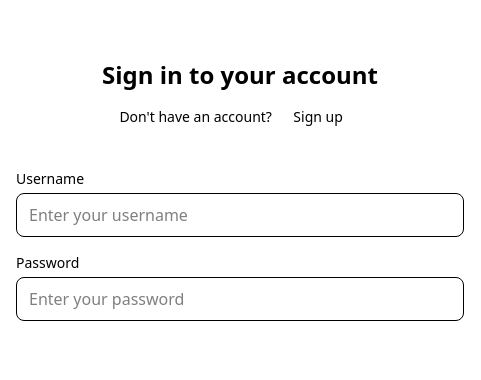
Scenario: AuthForm Component › Rendering › switches back to login from register
Note: Switch to register
Click the button "Sign up". click: [318, 117]
box: [276,98,361,137]
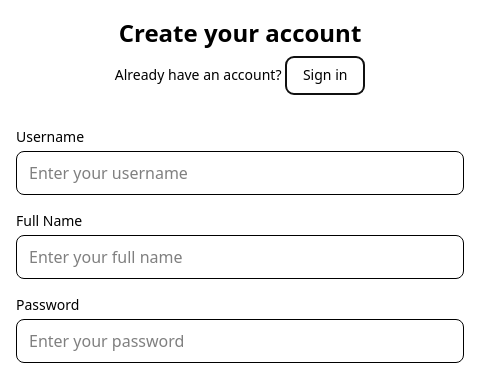
Result: the heading "Create your account" is shown at [119,16,361,49]
Note: Switch back to login
Click the button "Sign in". click: [325, 75]
box: [285,56,365,95]
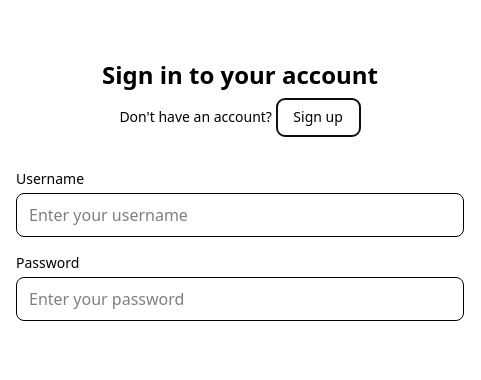
Result: the heading "Sign in to your account" is shown at [102,58,378,91]
Result: the label labelled "Full Name" is gone
